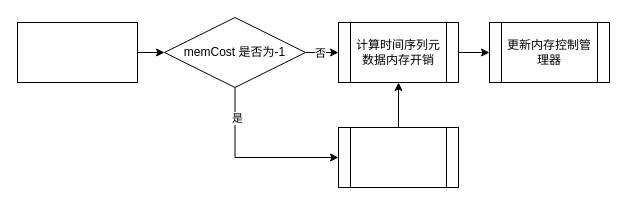
This 627x205 diagram has some shape labels left out. Here are the shapes that lost their labels. From the top down, the box of each, then its label:
(16, 22, 138, 82): 一行数据 InsertRowNode
(338, 126, 458, 188): 计算数值项内存开销
